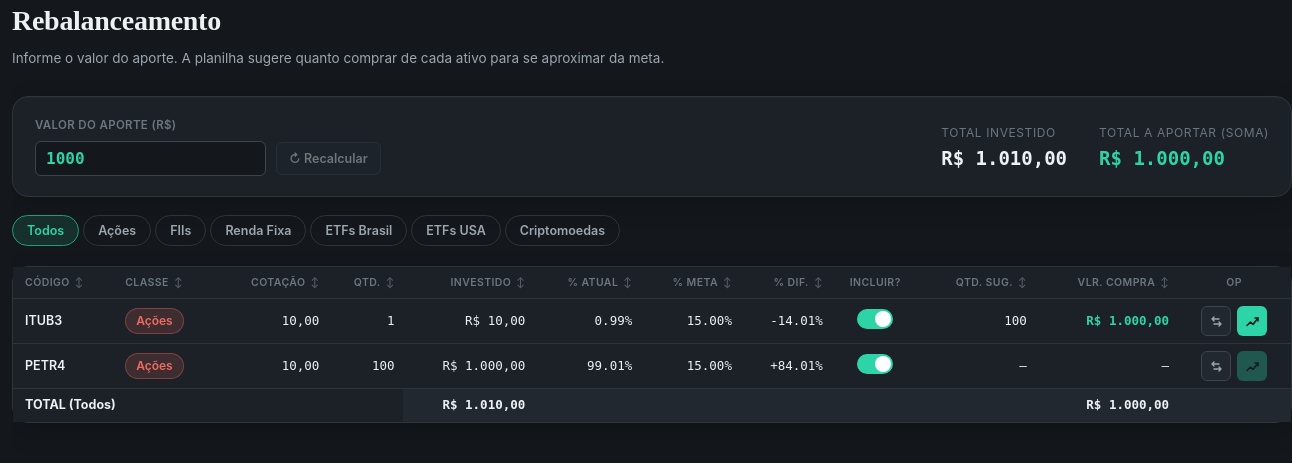
Test: Rebalanceamento — botão de compra sugerida (comprarSugerido) › editar o campo 'Valor do aporte' não recalcula as sugestões até clicar em Recalcular
The width and height of the screenshot is (1292, 463).
Expected: the text "100" in the row of "ITUB3" is shown, [1004,313,1027,328]
Replace the text in the number field with class "input-aporte" with "500" at point(150, 158), box [35,140,266,176]
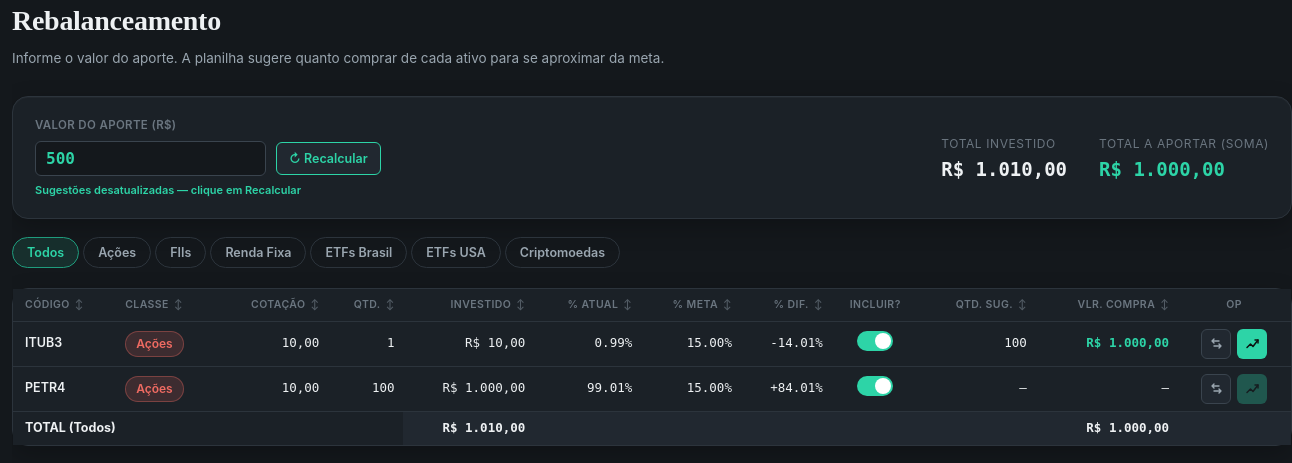
Expected: the text "100" in the row of "ITUB3" is shown, [1004,335,1027,350]
Result: the button "↻ Recalcular" is enabled
Click the button "↻ Recalcular" at point(328, 158), box [276,142,381,174]
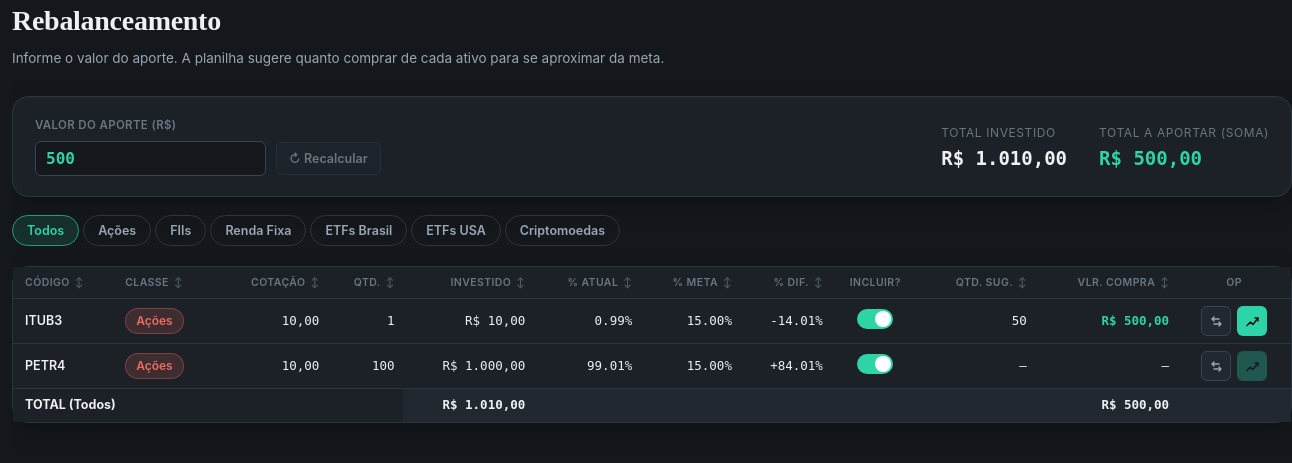
Result: the text "50" is shown at [920,299,1035,344]
